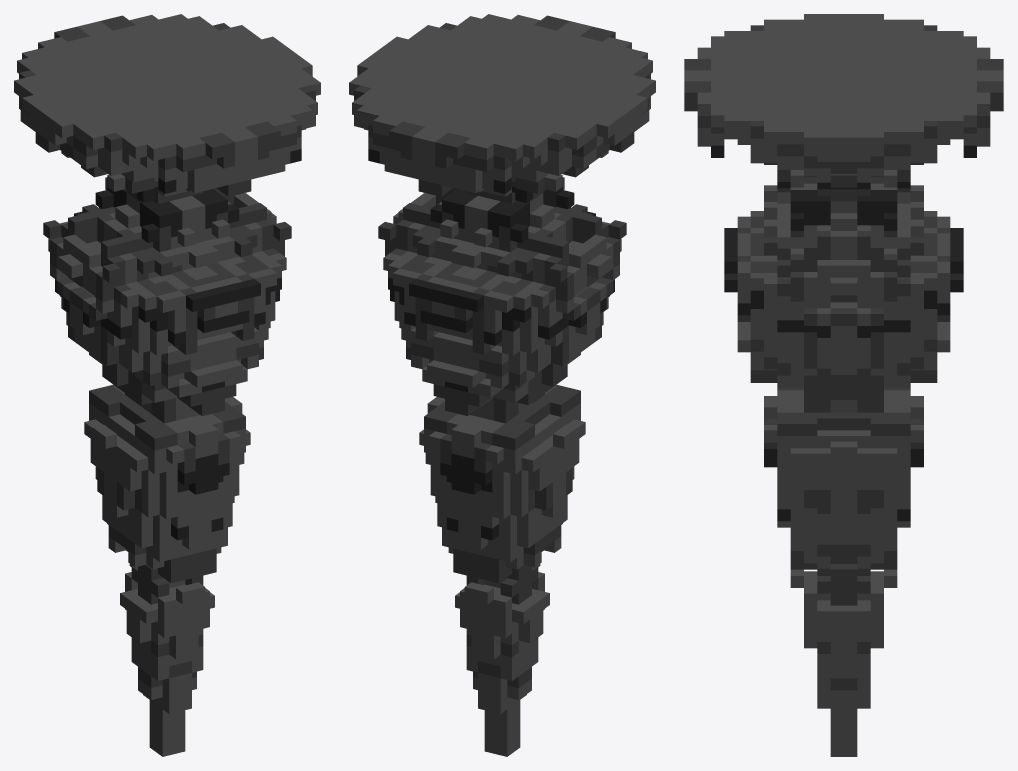
Rendered from stone top 3.obj.
The picture shows the model from 3 angles, left to right: view 1: azimuth 30°, elevation 25°; view 2: azimuth 150°, elevation 25°; view 3: azimuth 270°, elevation 25°; orthographic projection.
Size of the model in its own units: 2.2 by 5.6 by 2.4.
Materials: 1 (1 with a texture image).
